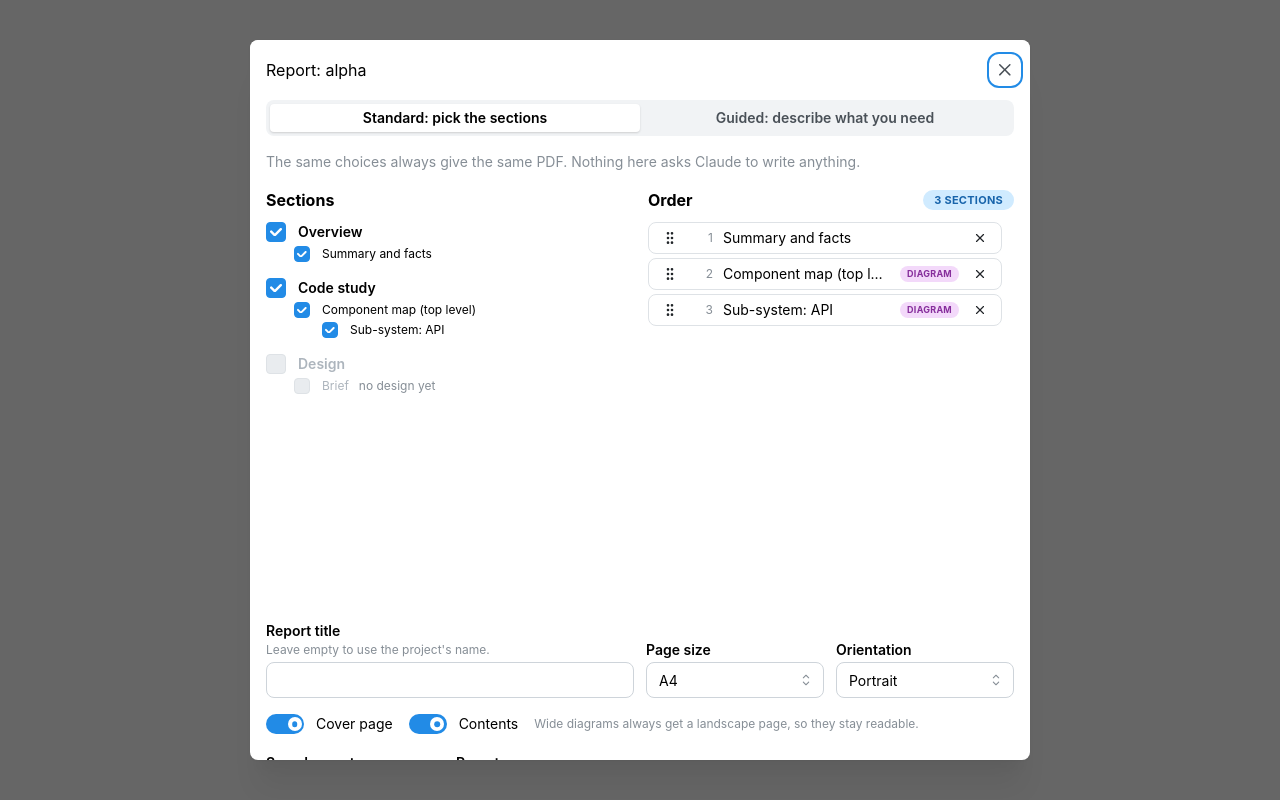
Scenario: ReportDialog › saves the preset and starts the build with the chosen sections, then offers the PDF
The width and height of the screenshot is (1280, 800).
Check: the text "3 sections" is shown, box [934,191,1003,209]
Click the button named "Remove Sub-system: API" at (980, 310), box [969,299,991,321]
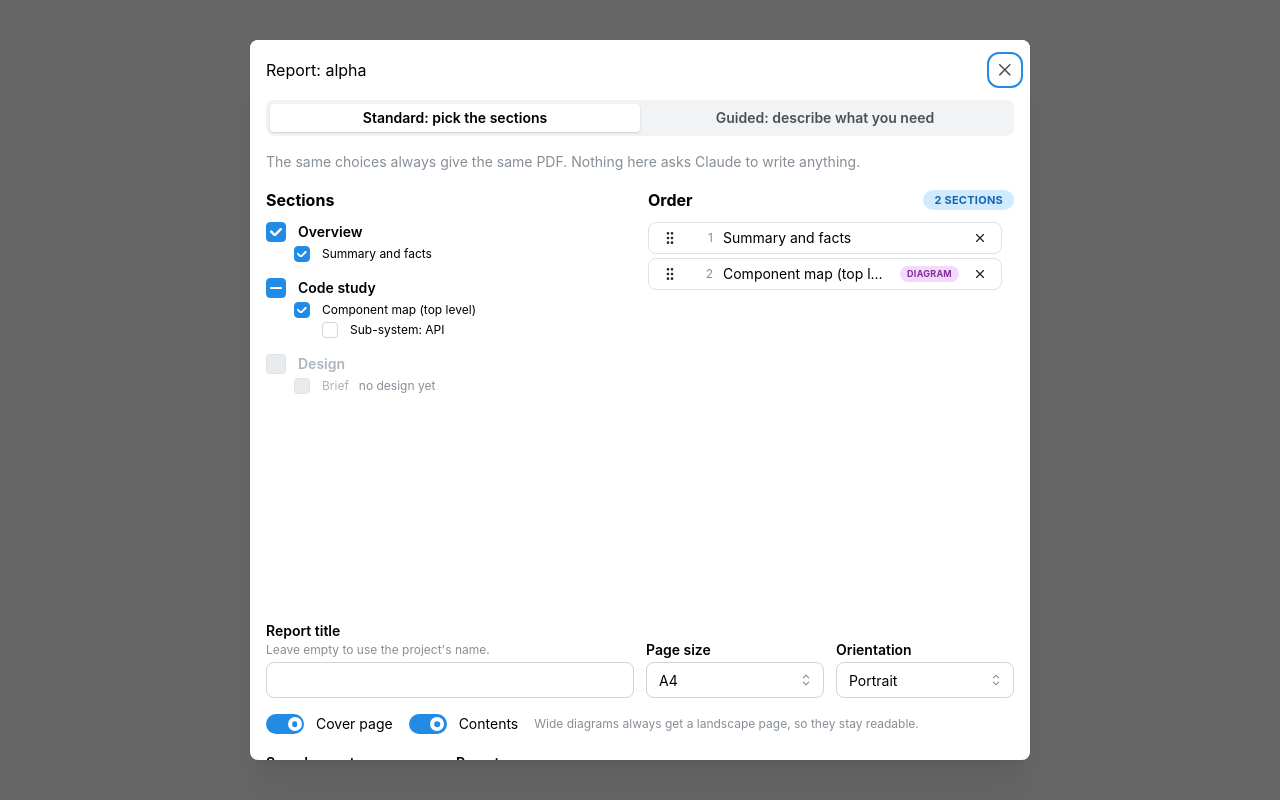
Type "Q4 review" into the field labelled "Report title" at (450, 680), box [266,662,634,698]
(page scrolled)
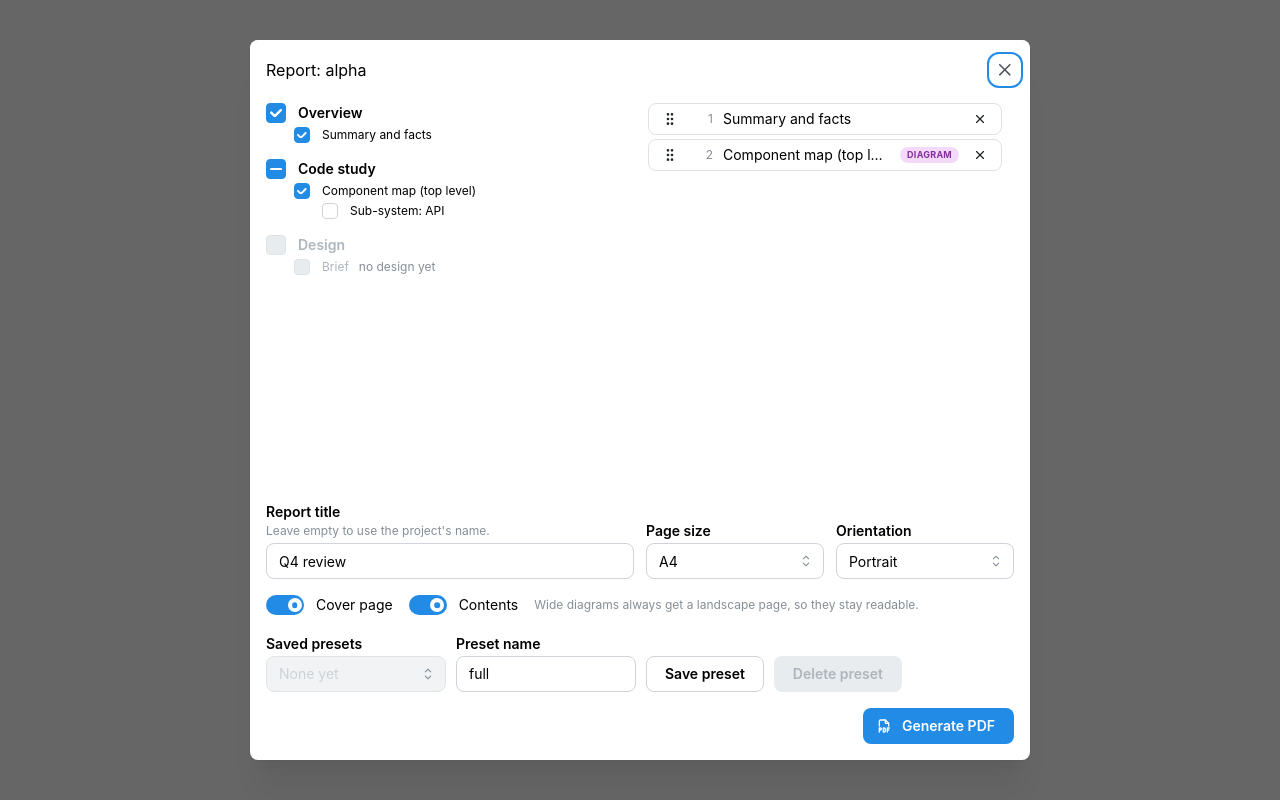
Click the button "Generate PDF" at (938, 726), box [863,708,1014,744]
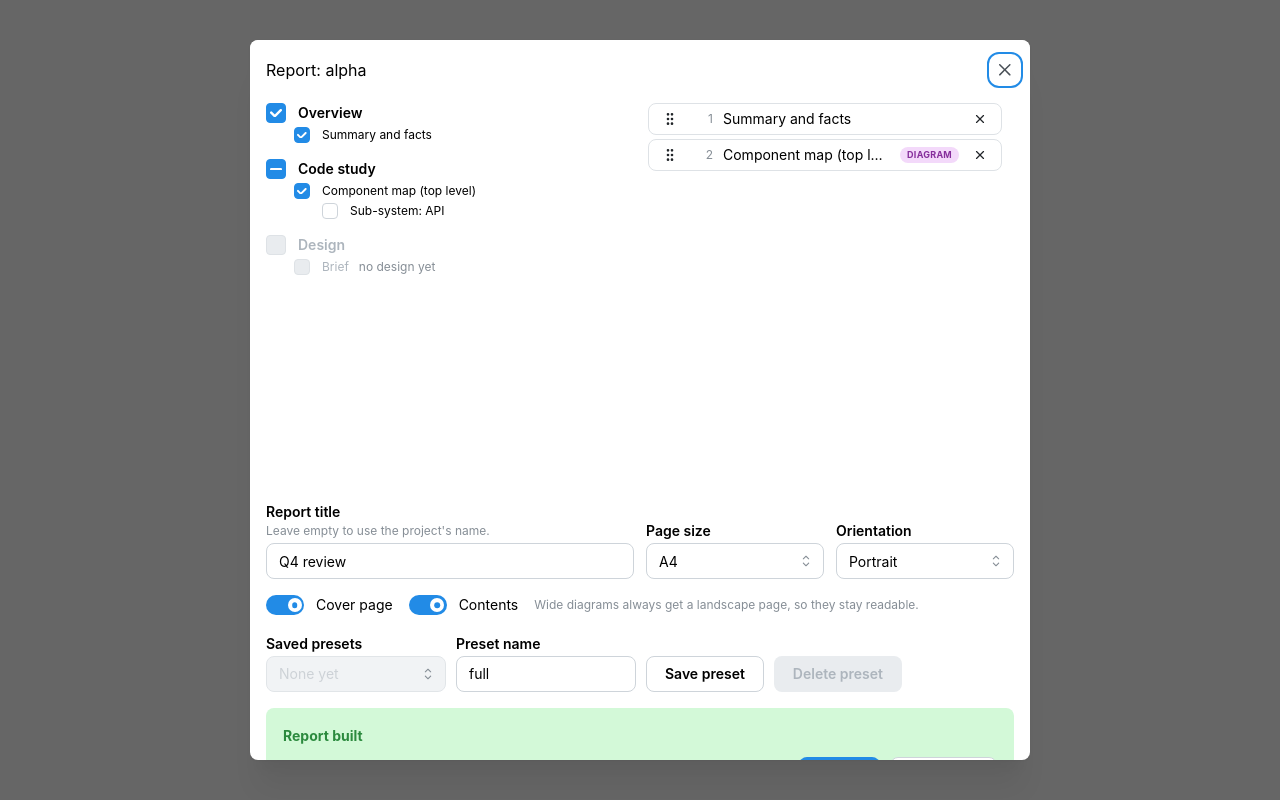
Check: the text "Report built" is shown, box [283,725,363,747]
